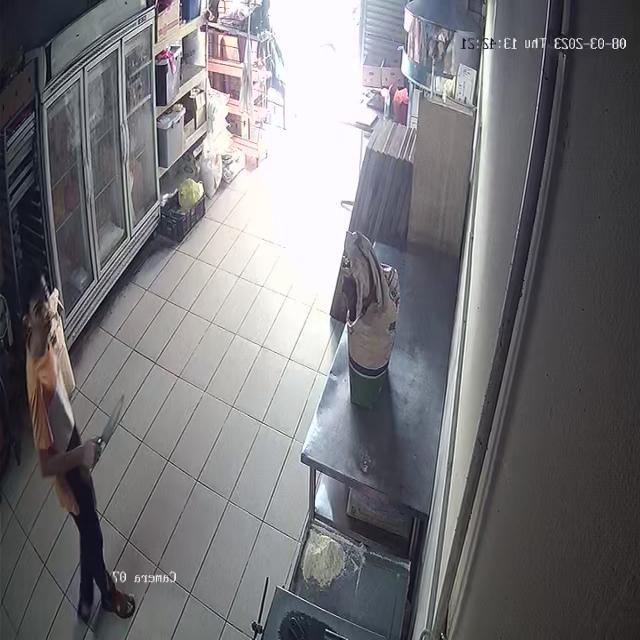Knife: (83, 393, 141, 458)
